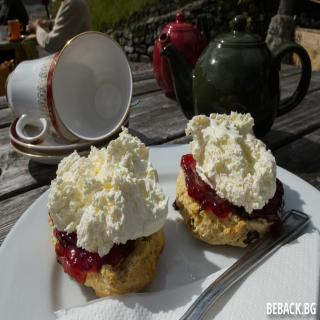Ice cream: (48, 137, 168, 285), (183, 107, 278, 218)
